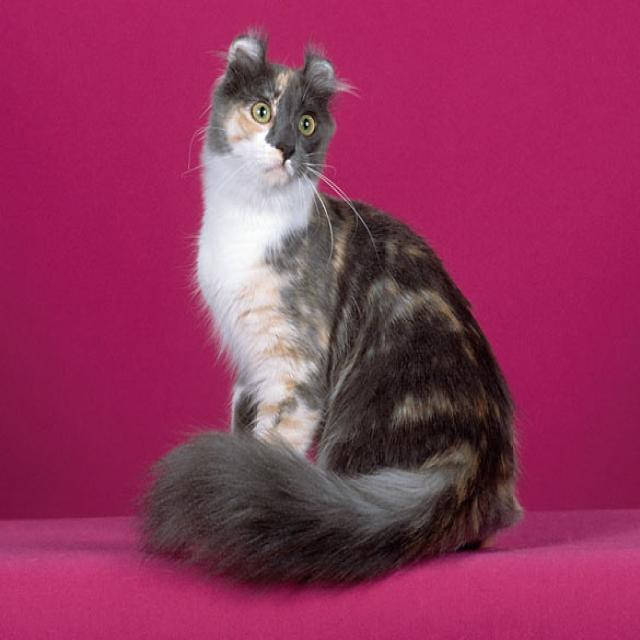American Curl: (139, 28, 521, 590)
